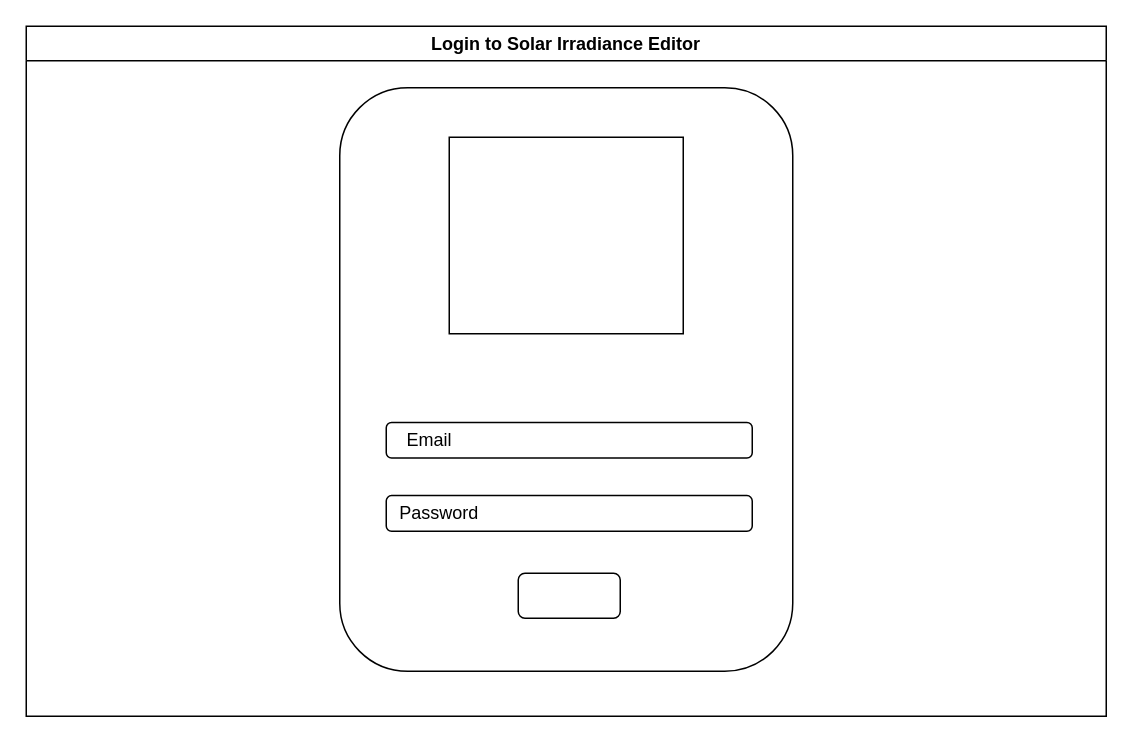
The diagram is 1133 pixels wide and 743 high, and some of its shapes have lost their labels. Here are the shapes that lost their labels. From the top down, the centre of each, then its label:
At point 565,235: "Logo".
At point 568,595: "Login".
